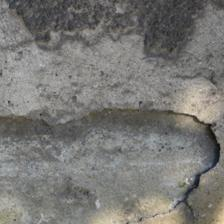Crack: (56, 75, 167, 143), (44, 201, 124, 224)
